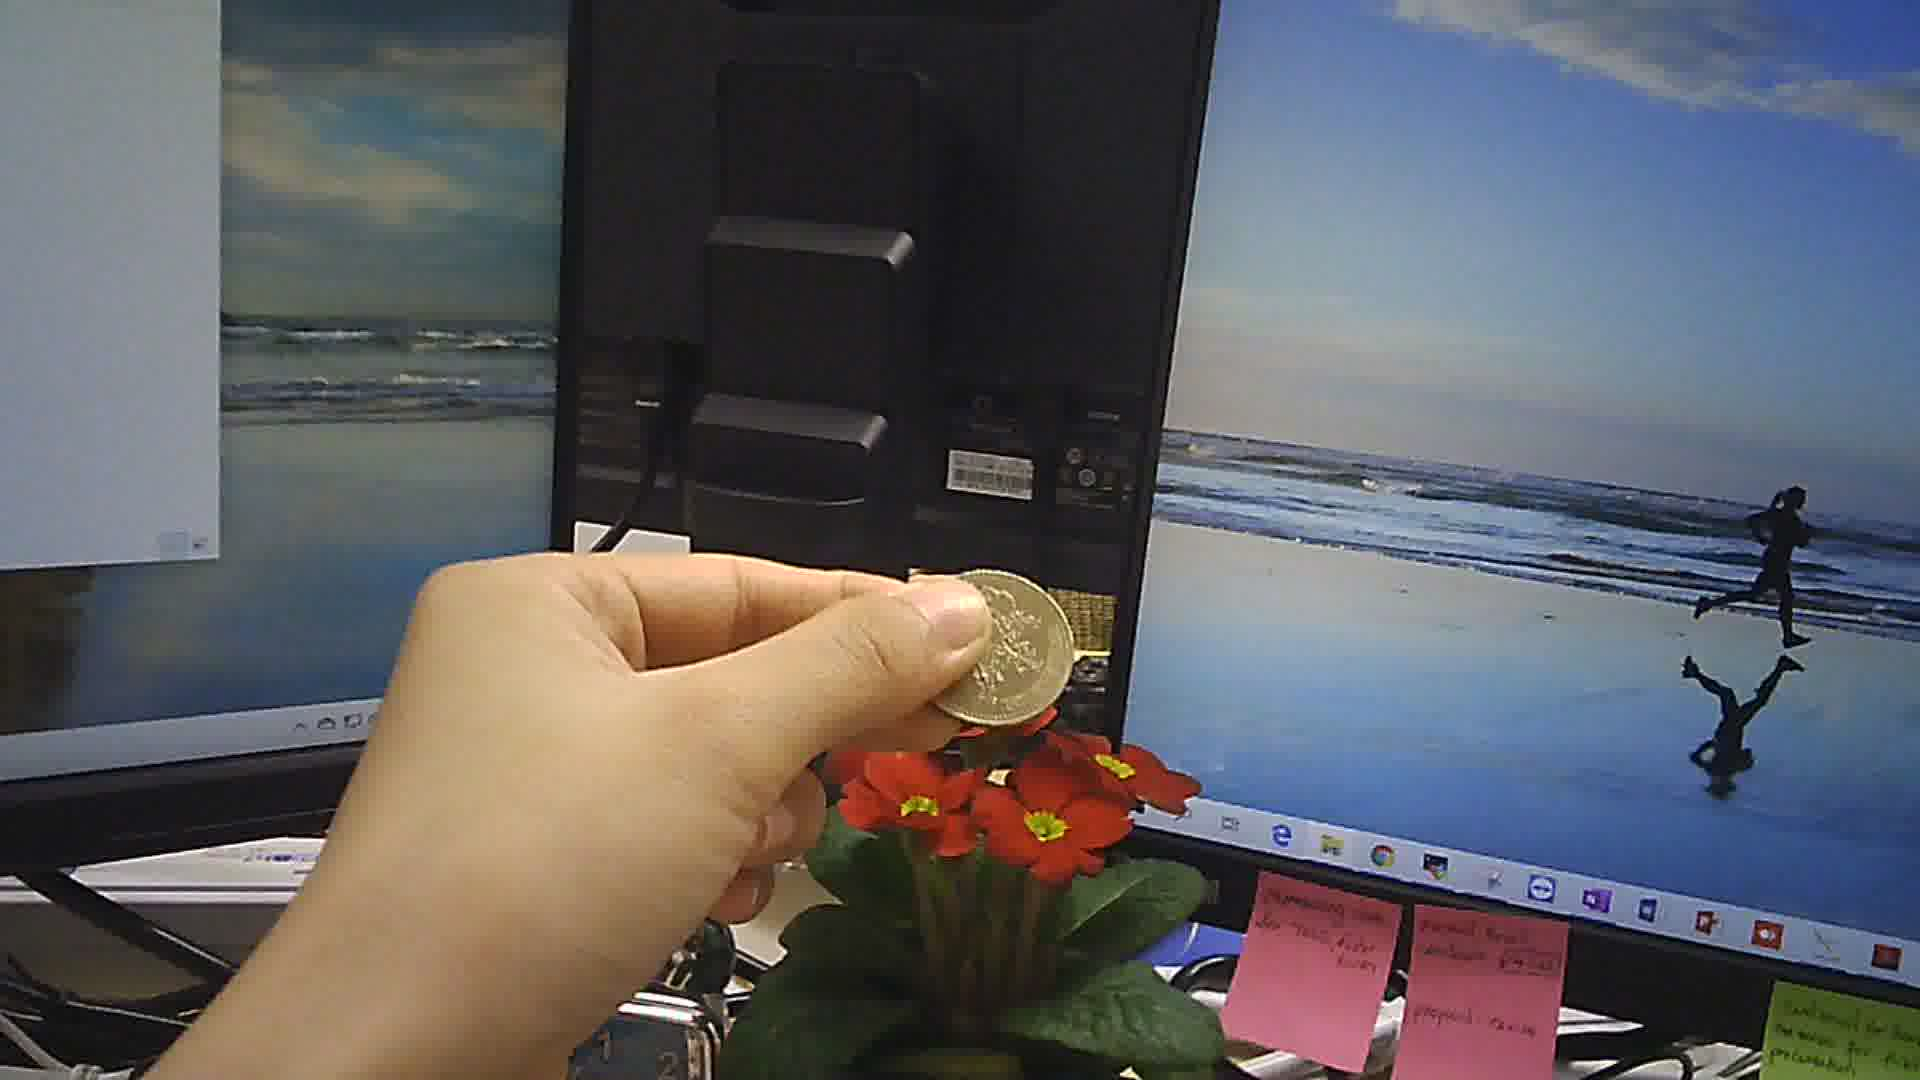500 Yen: (913, 560, 1085, 733)
